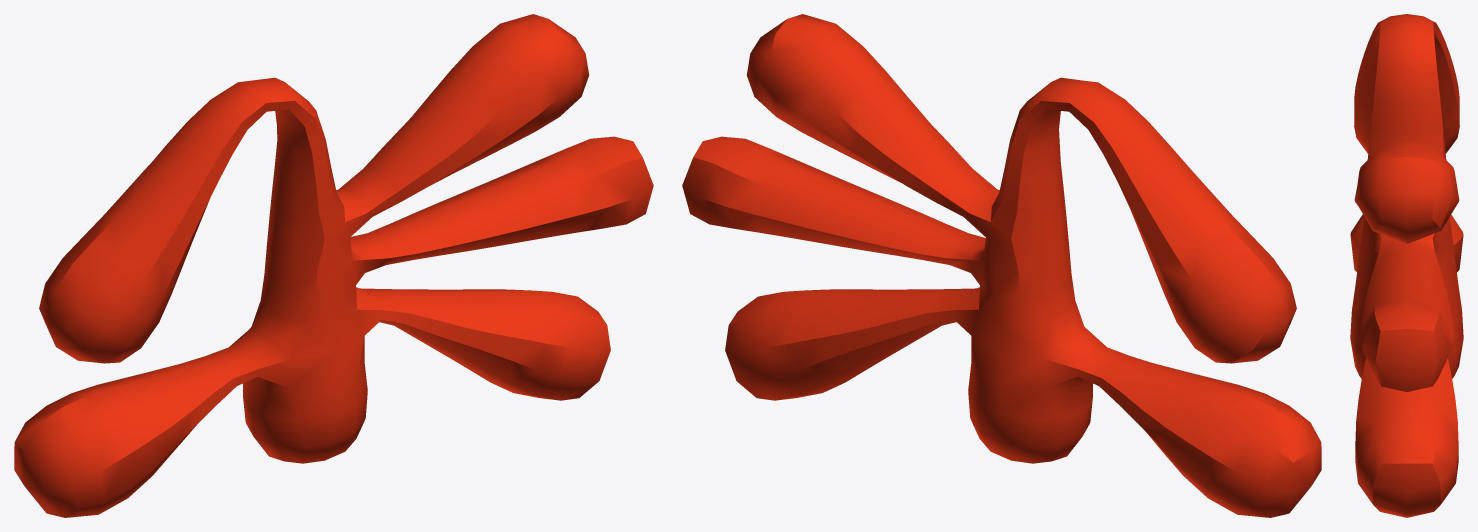
3 views of the same model, side by side, from view 1: azimuth 30°, elevation 25°; view 2: azimuth 150°, elevation 25°; view 3: azimuth 270°, elevation 25° (orthographic). The views are drawn at different scales.
Visible parts, largest first — view 1: pilowlava_æ_for_sds; view 2: pilowlava_æ_for_sds; view 3: pilowlava_æ_for_sds.
Boxes of the visible parts, x1=… form: pilowlava_æ_for_sds: x1=14, y1=14, x2=653, y2=517; pilowlava_æ_for_sds: x1=682, y1=14, x2=1321, y2=517; pilowlava_æ_for_sds: x1=1350, y1=14, x2=1463, y2=517.
Size of the model in its own units: 0.0766 by 0.0452 by 0.0129.
